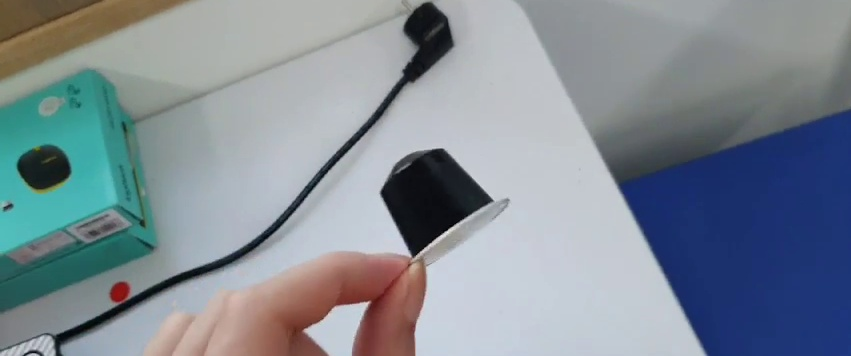capsule_10: (381, 148, 513, 267)
